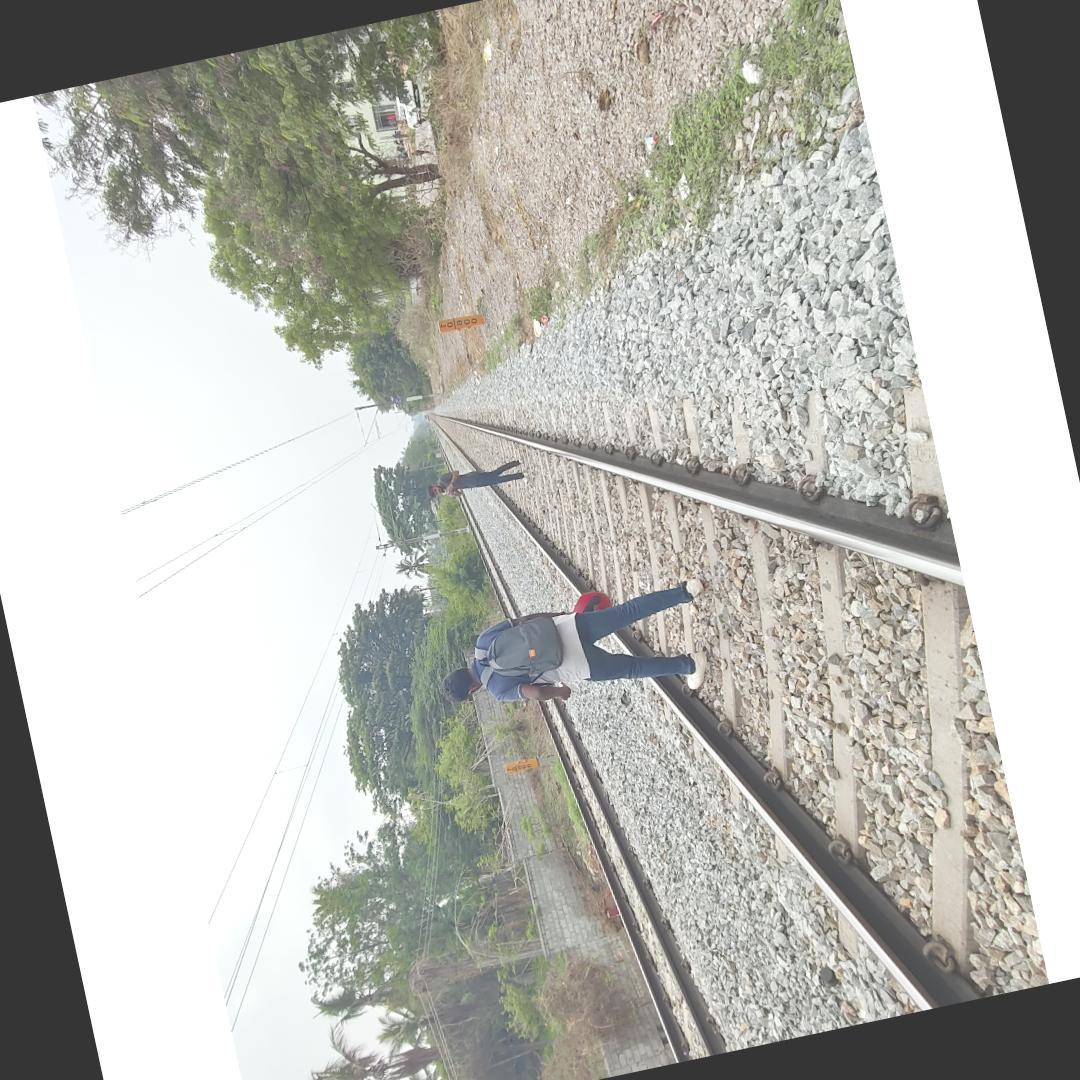standing: (428, 572, 724, 741), (422, 455, 526, 504)
track: (429, 397, 1048, 1022)
